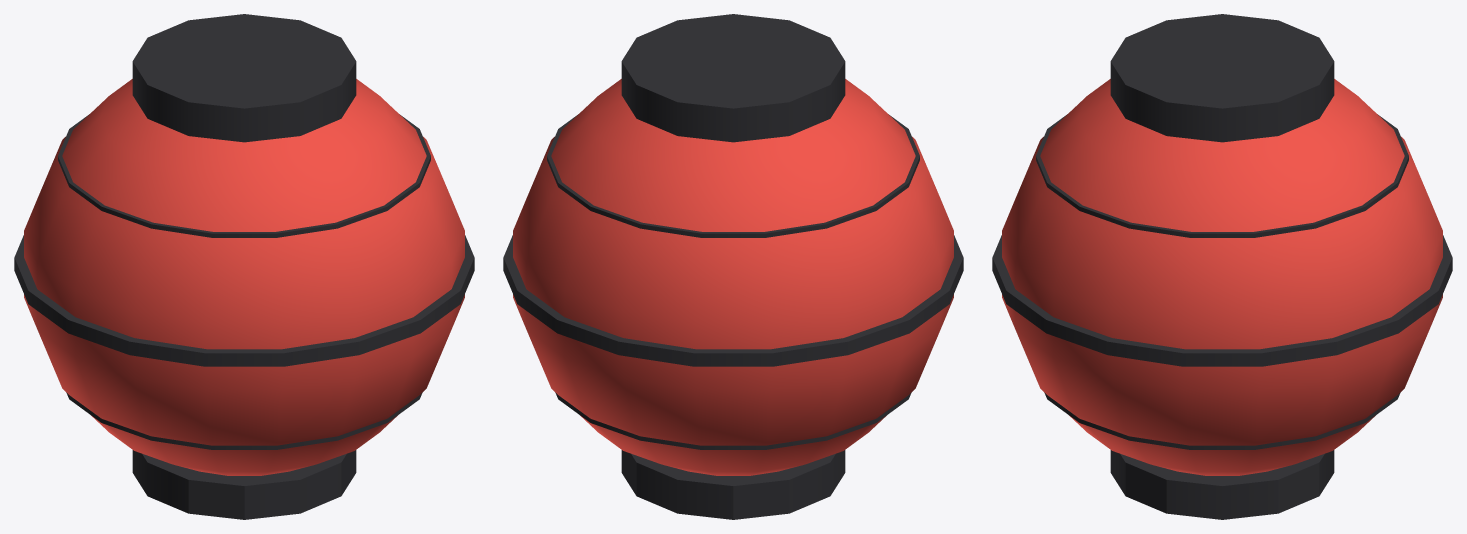
The model's file is Lamp_Japanese.fbx.
3 views of the same model, side by side, from view 1: azimuth 30°, elevation 25°; view 2: azimuth 150°, elevation 25°; view 3: azimuth 270°, elevation 25° (orthographic).
Visible parts, largest first — view 1: Lamp_Japanese; view 2: Lamp_Japanese; view 3: Lamp_Japanese.
Part boxes in pixels (box(x1,y1,x2,y2)): Lamp_Japanese: box(14, 14, 474, 519); Lamp_Japanese: box(503, 14, 963, 519); Lamp_Japanese: box(992, 14, 1452, 519).
Bounding box in the file's own units: 0.3644 × 0.365 × 0.37.
